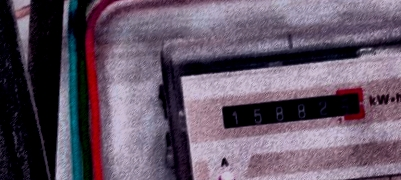1: (227, 105, 239, 124)
2: (315, 96, 327, 115)
5: (249, 105, 261, 122)
7: (337, 101, 349, 113)
8: (270, 102, 283, 120), (293, 99, 305, 118)
screen: (211, 82, 369, 135)
